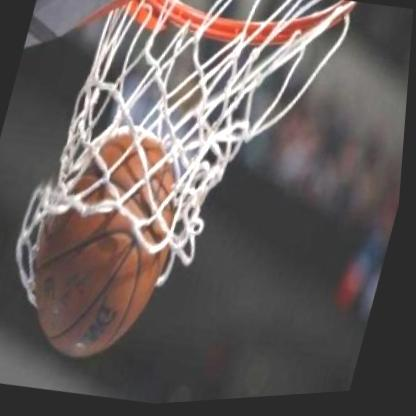basketball: (12, 113, 206, 382)
